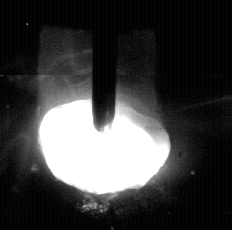arame: (92, 0, 117, 132)
poca: (38, 0, 170, 230)
